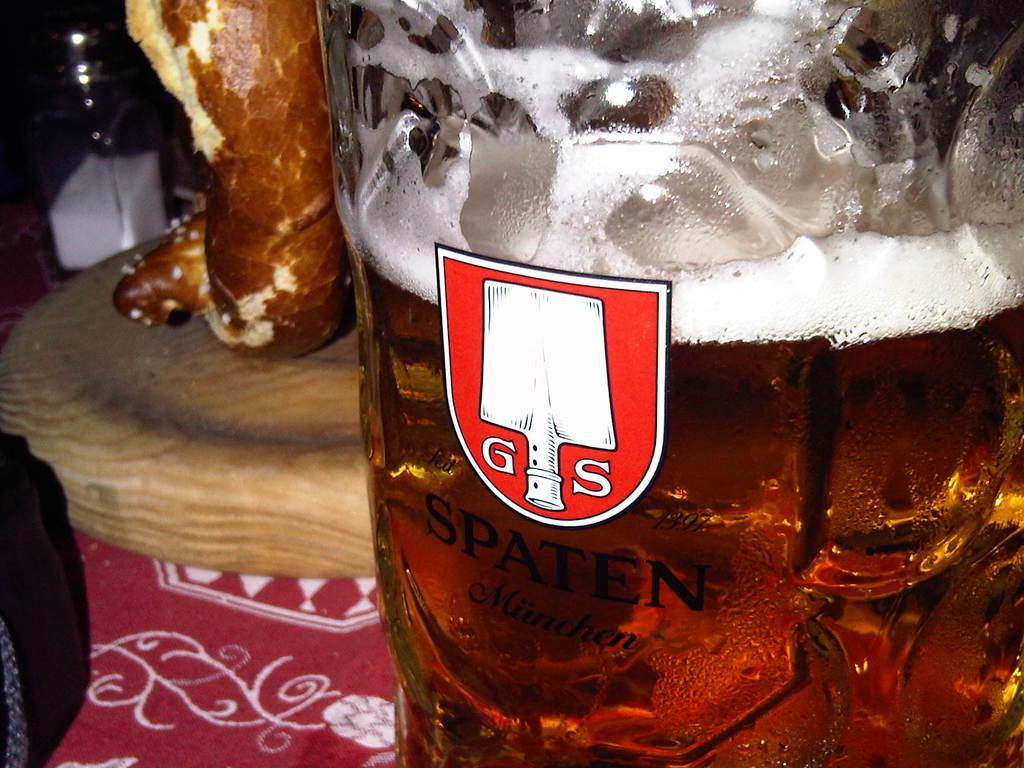Beer: (358, 0, 1020, 766)
